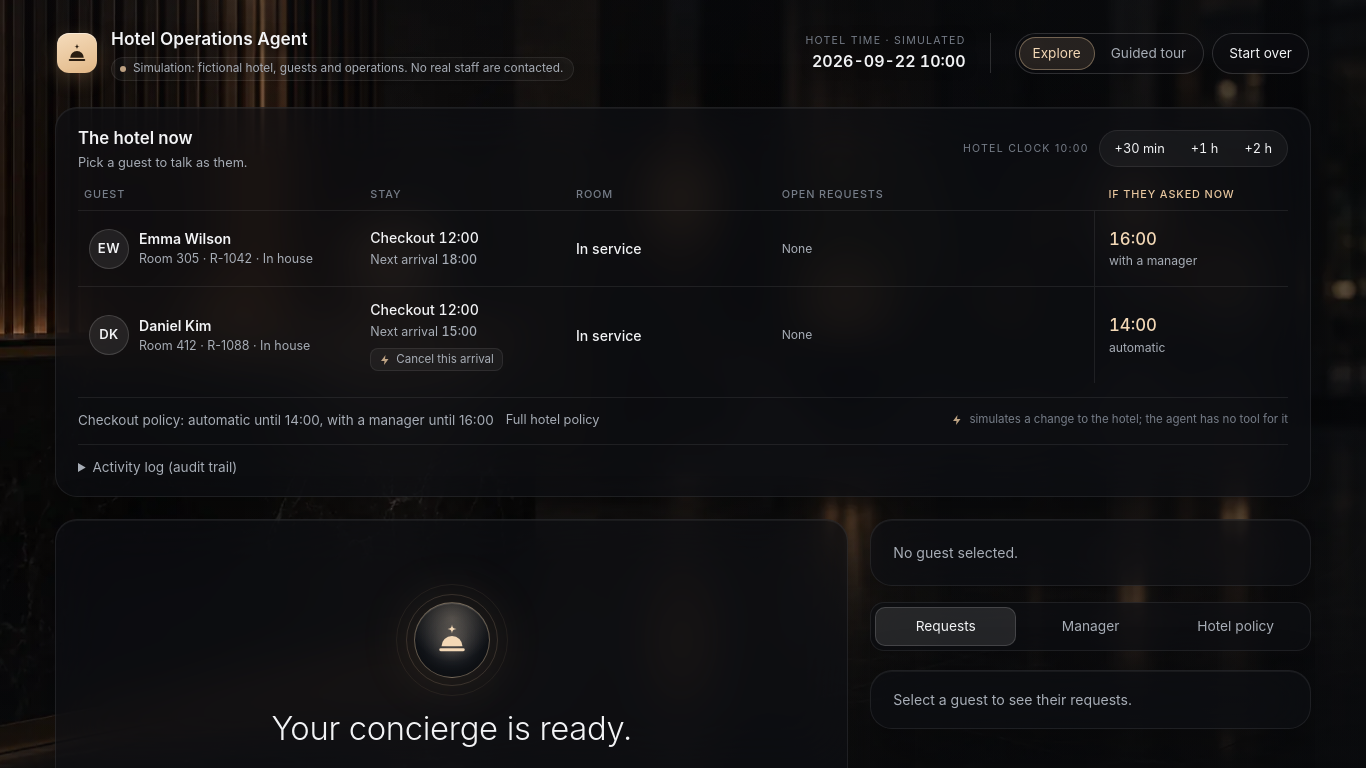
Scenario: guided scenarios on the main screen › lets the hotel offer and the guest ask: each hotel step ticks from its own update
This screenshot has width=1366, height=768.
Click the button with test id "mode-guided" at {"x": 1148, "y": 53}, box [1097,37,1200,70]
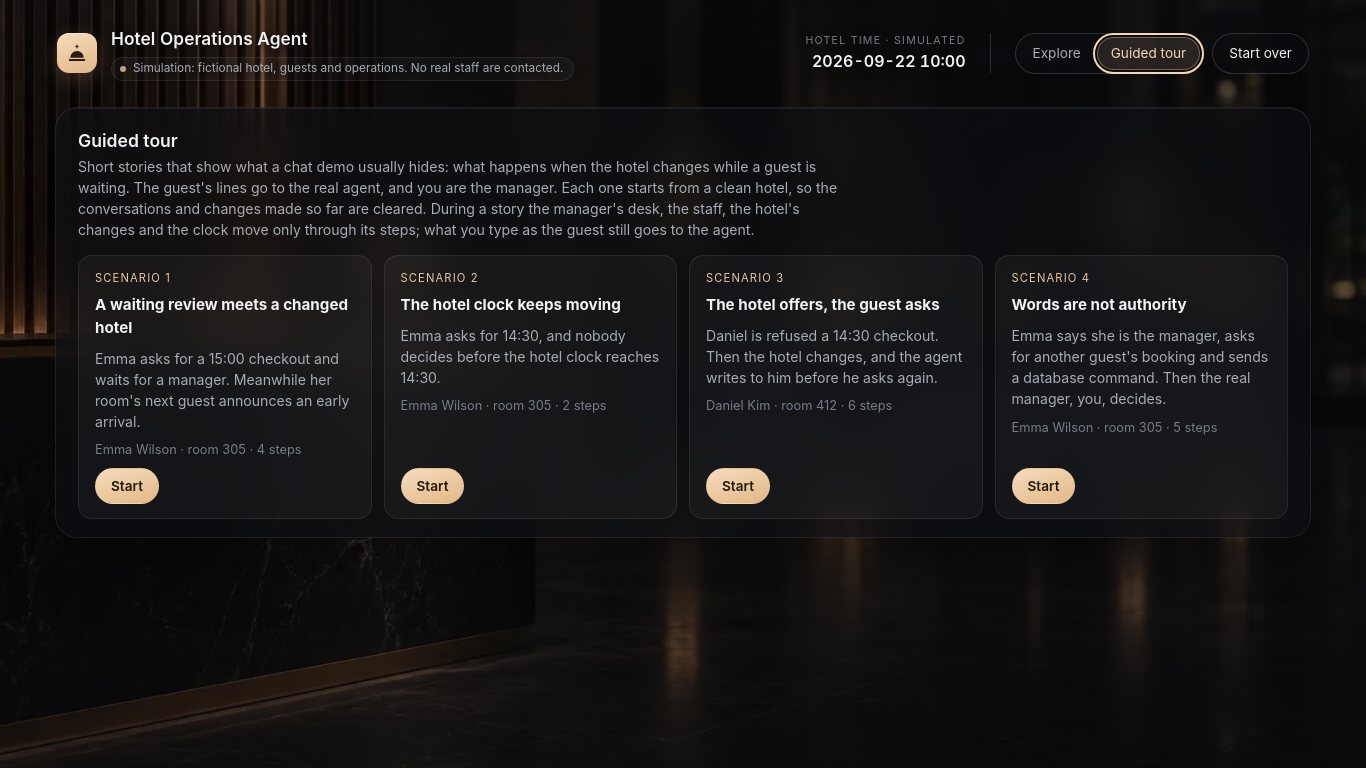
Click the button "Start" below "The hotel offers, the guest asks" at {"x": 738, "y": 486}, box [706,468,770,504]
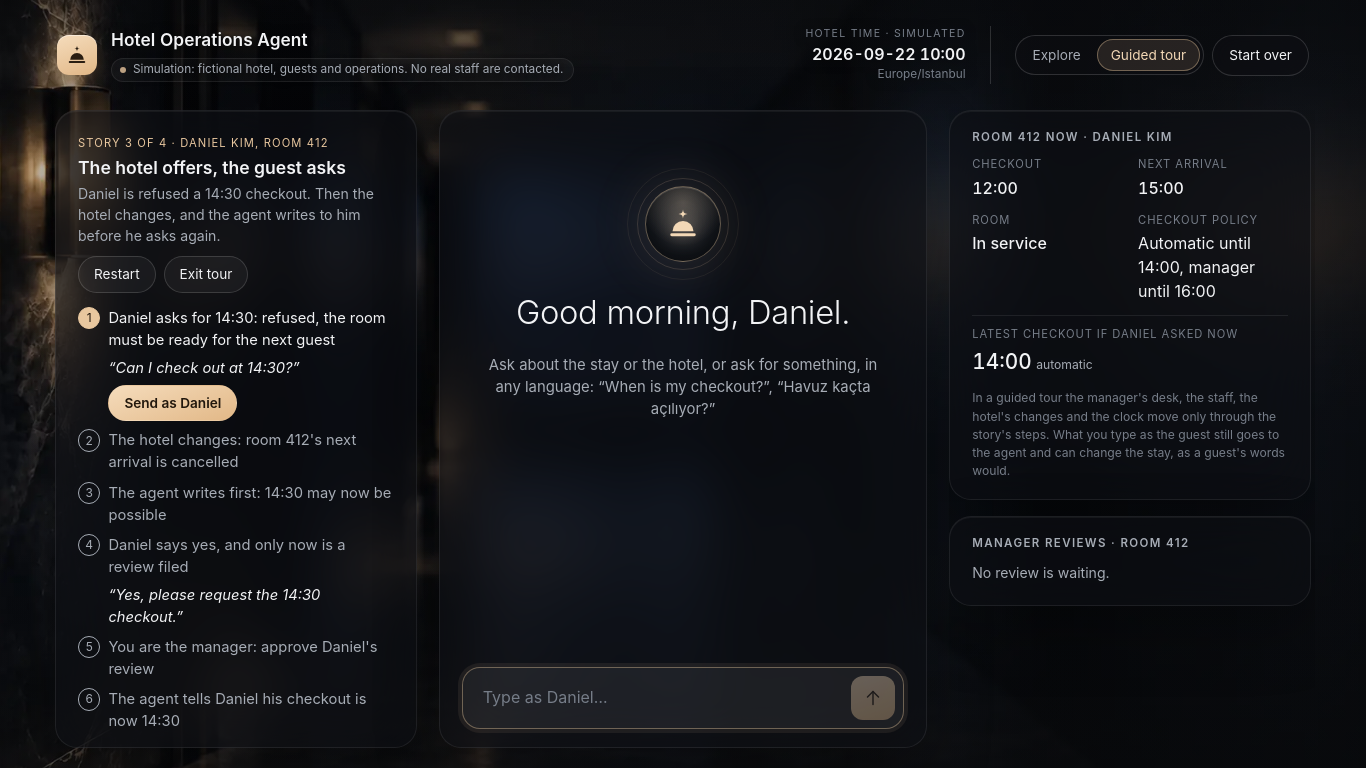
expect the element with test id "scenario-guide" is shown: met, box [55,110,417,748]
Click the button "Send as Daniel" at {"x": 173, "y": 403}, box [108,385,237,421]
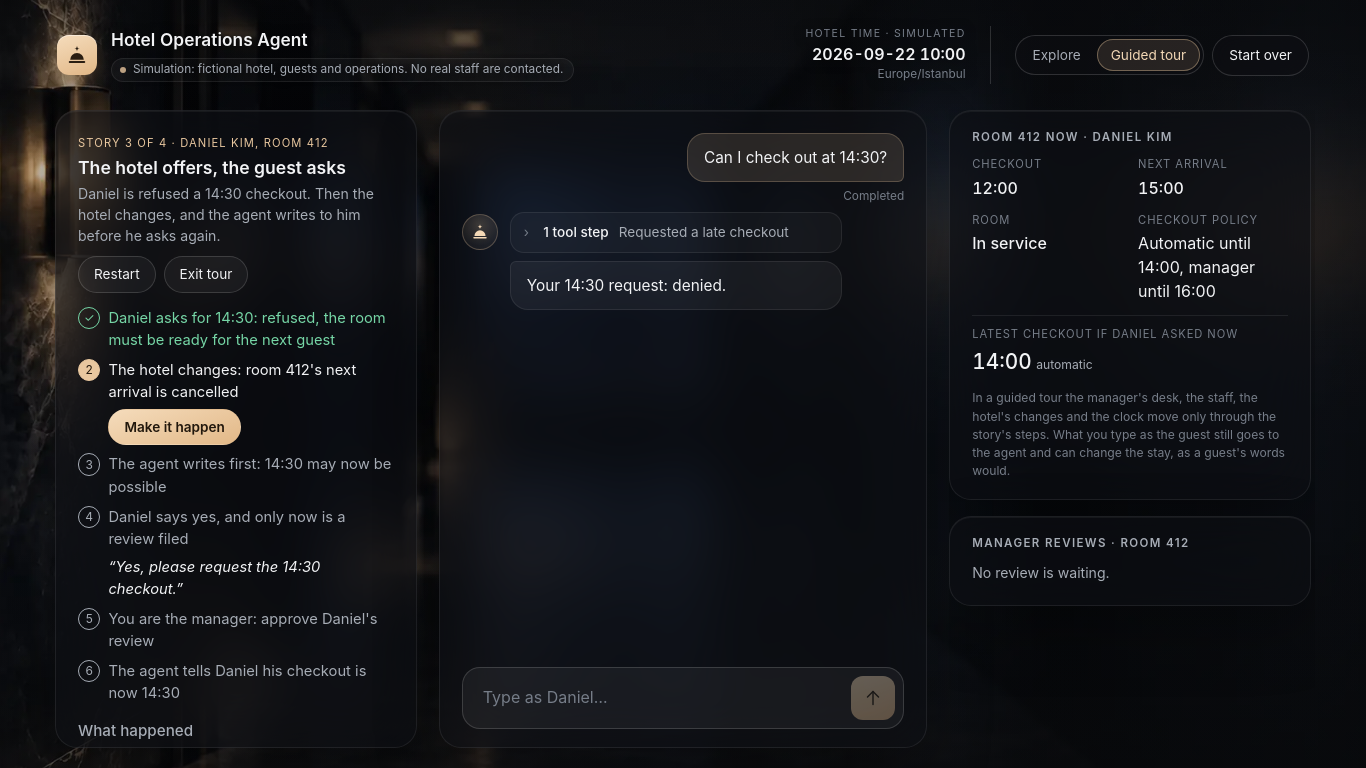
Click the button "Make it happen" at {"x": 175, "y": 427}, box [108,409,241,445]
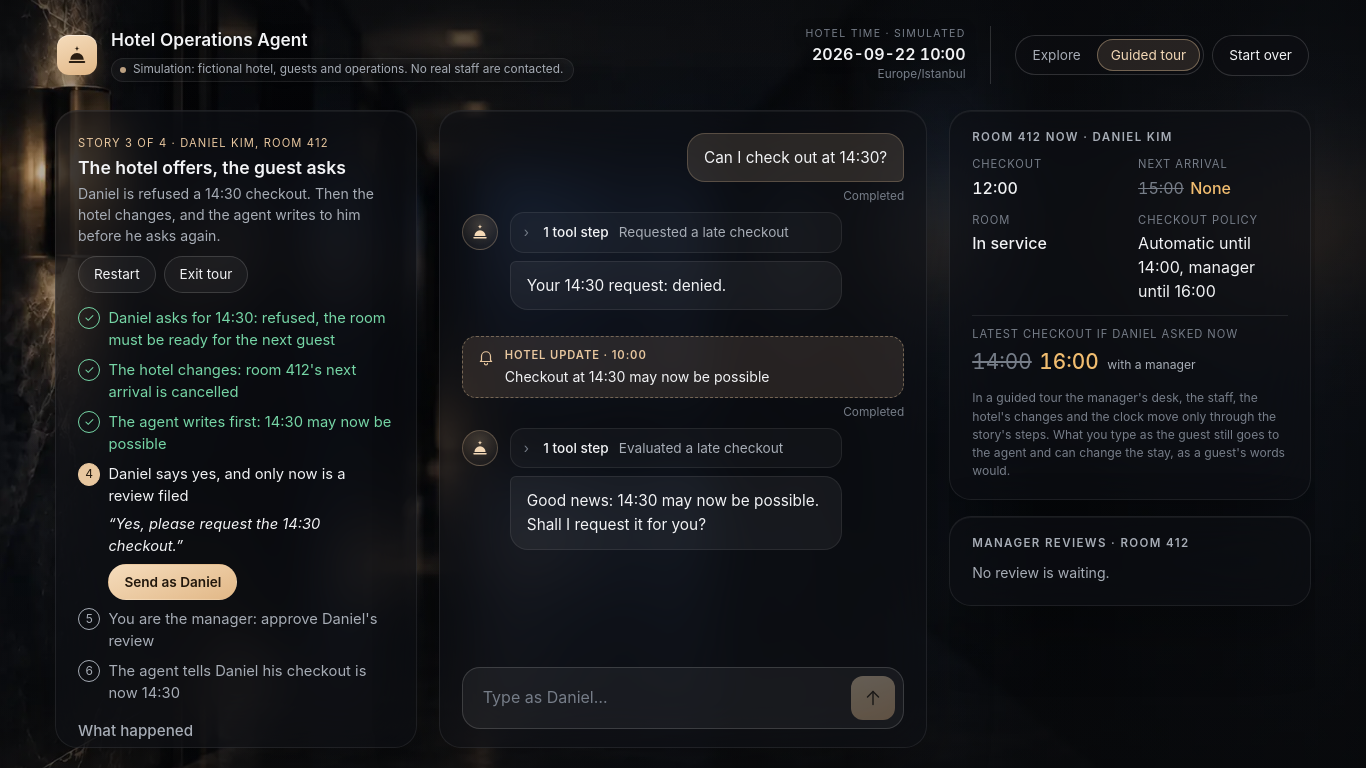
expect the list item with test id "scenario-step" has attribute data-state="done": met, box [78,411,394,455]
Click the button "Send as Daniel" at {"x": 173, "y": 582}, box [108,564,237,600]
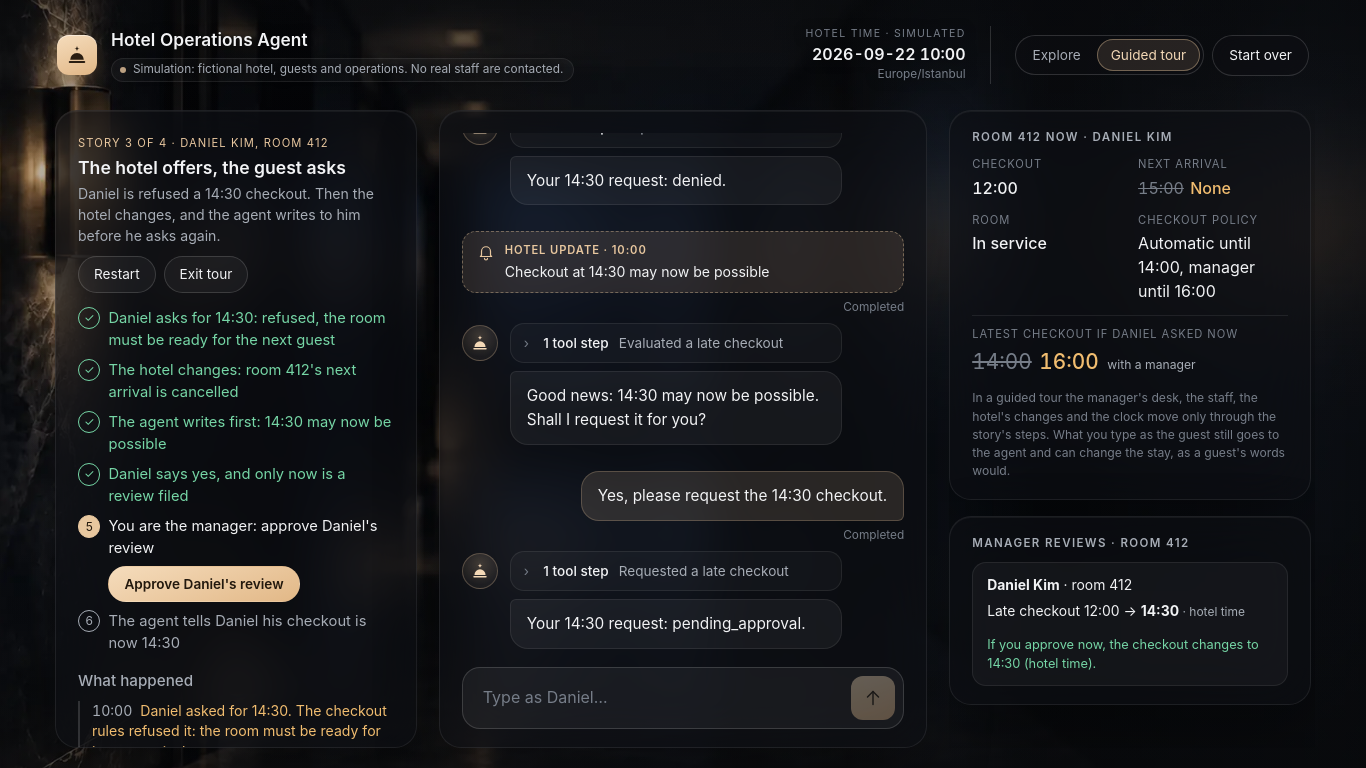
Click the button "Approve Daniel's review" at {"x": 204, "y": 584}, box [108,566,300,602]
(page scrolled)
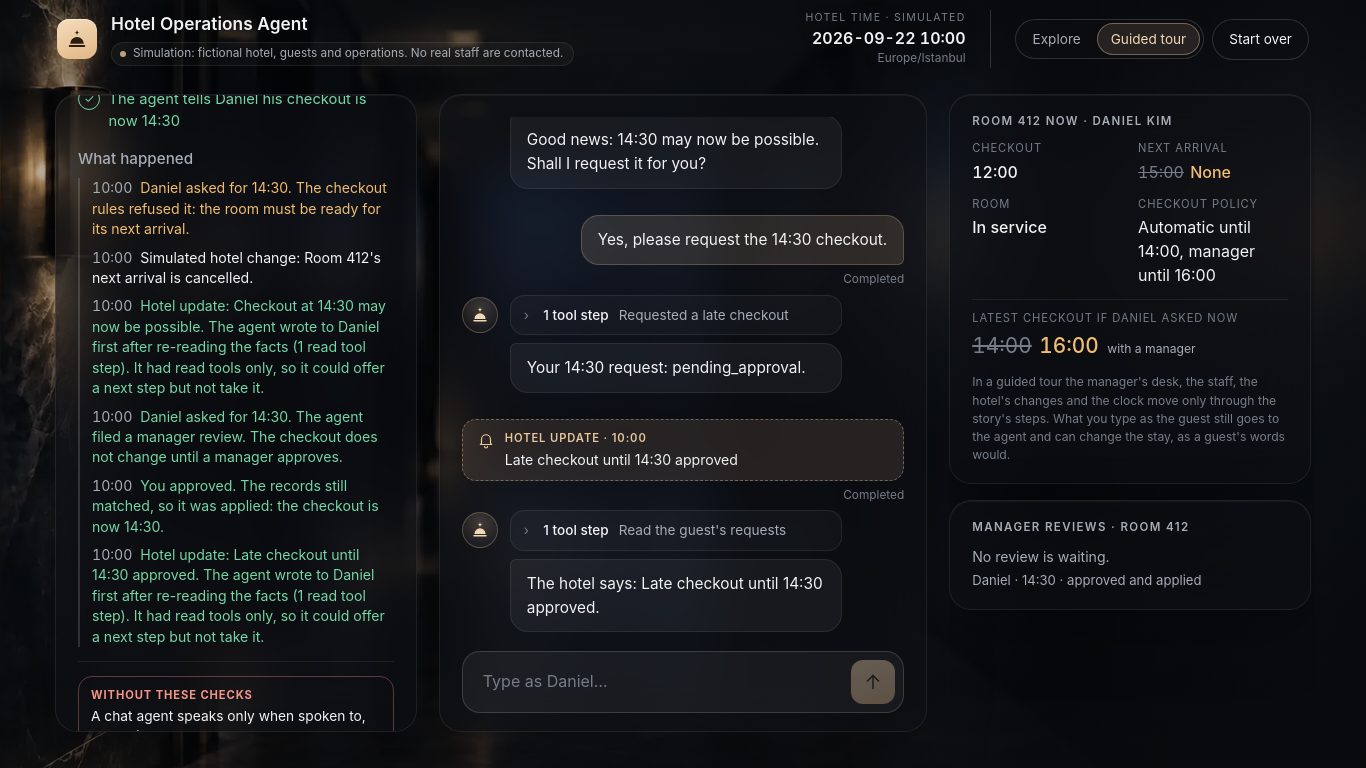
expect the list with test id "scenario-timeline" shows "You approved. The records still matched, so it was applied": met, box [92,477,379,534]
